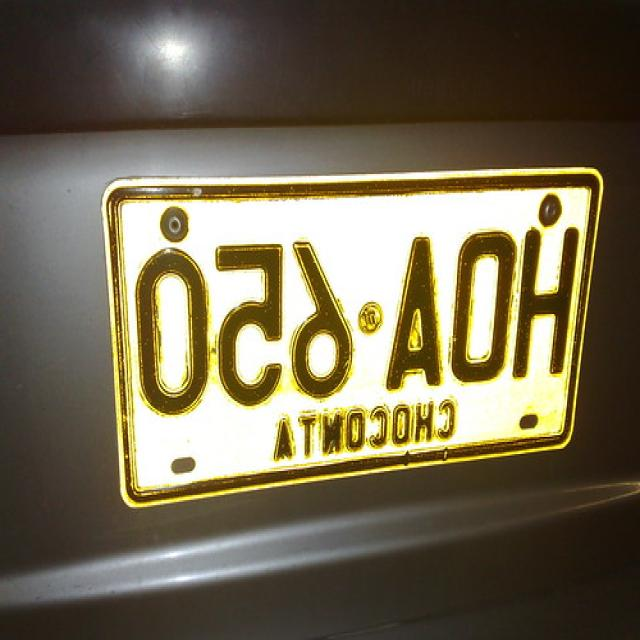placas: (123, 216, 586, 428)
